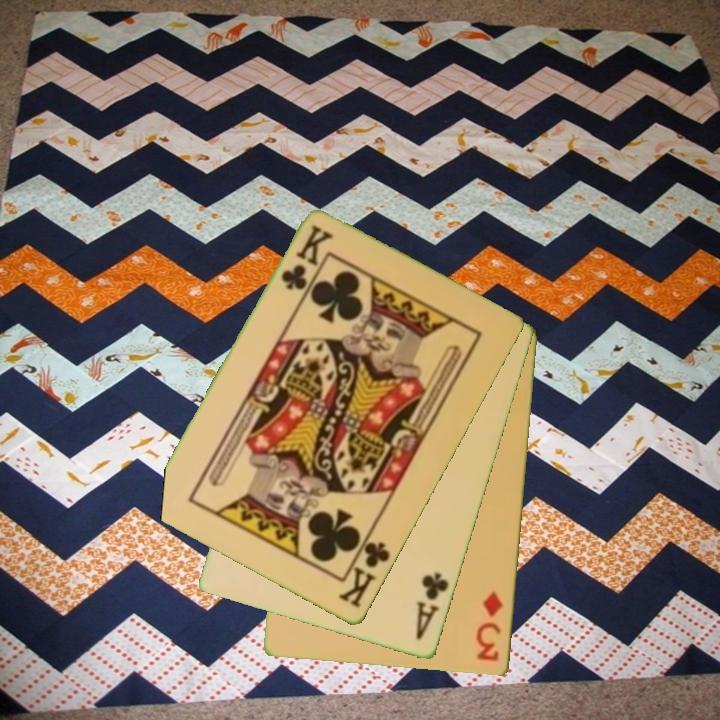3d: (473, 588, 506, 665)
Ac: (412, 570, 452, 643)
Kc: (335, 529, 394, 612), (277, 221, 335, 294)
